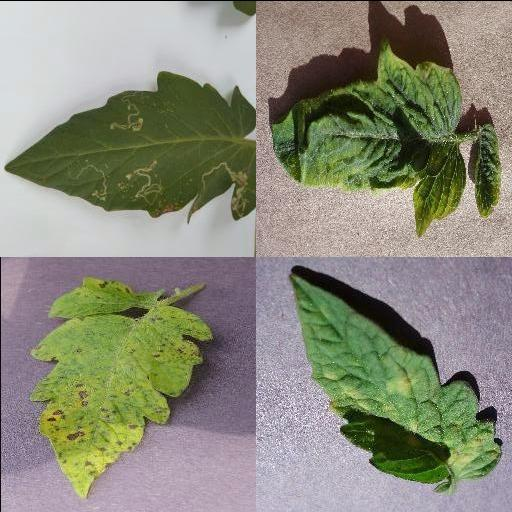Leaf Miner: (4, 69, 256, 221)
Leaf Mold: (288, 271, 504, 482)
Septoria: (29, 276, 211, 500)
Yellow Leaf Curl Virus: (270, 40, 464, 240), (467, 123, 503, 214)
